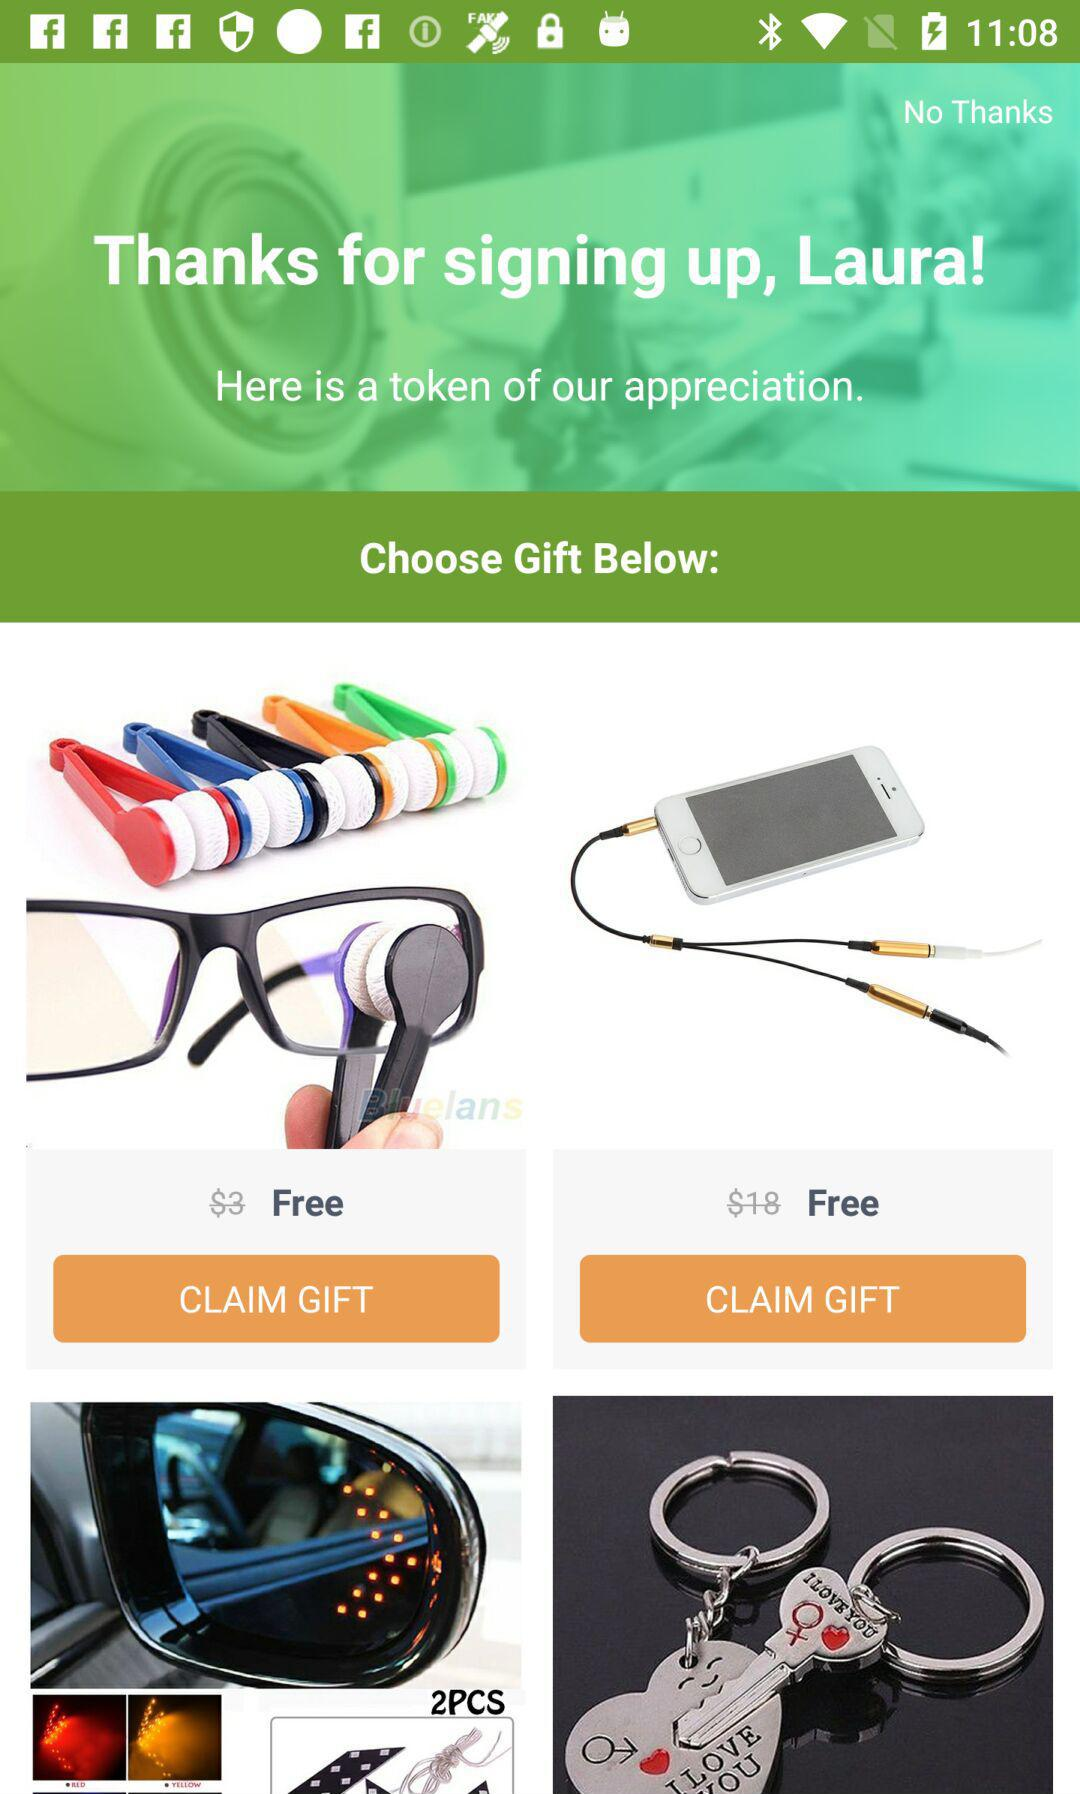Image: (49, 680, 527, 1149), (553, 1395, 1053, 1794), (31, 1401, 525, 1794), (570, 745, 1045, 1061)
Text: (94, 229, 985, 301), (217, 369, 863, 413), (361, 539, 719, 575), (903, 97, 1054, 127), (808, 1188, 879, 1219), (274, 1188, 345, 1219), (726, 1188, 781, 1219), (209, 1187, 246, 1219)
TextButton: (53, 1255, 501, 1344), (580, 1255, 1027, 1344)
UpperTaskBar: (1, 1, 1080, 64)
